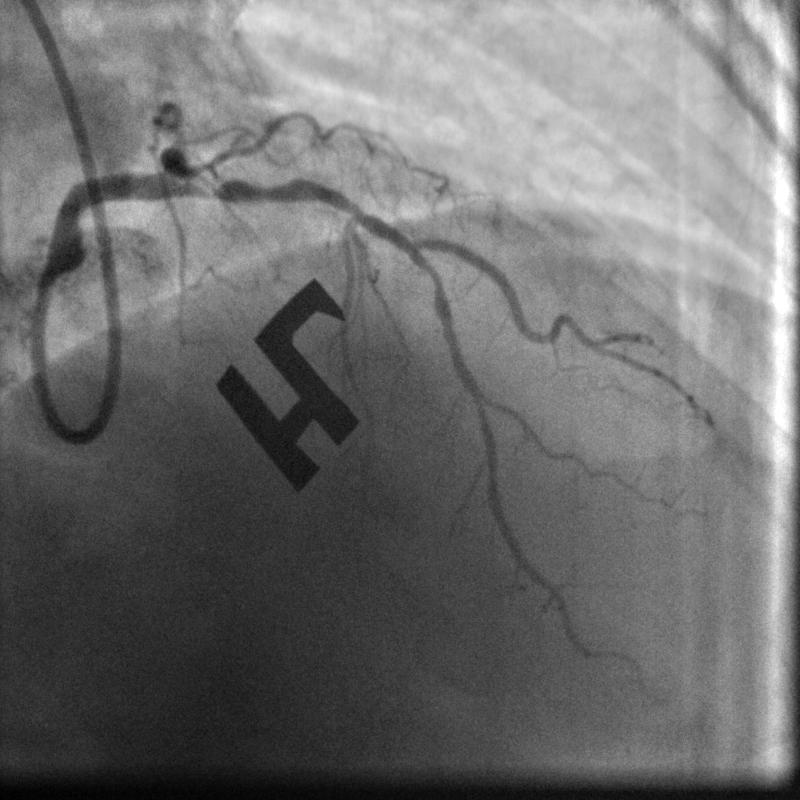Stenosis: (191, 173, 305, 203)
